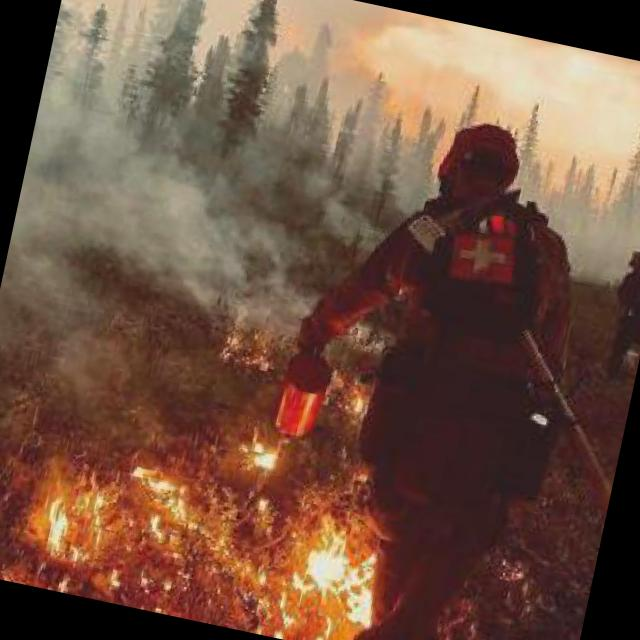fire: (251, 500, 397, 640), (118, 454, 200, 546), (37, 483, 106, 562), (341, 378, 372, 418), (248, 438, 282, 468)
